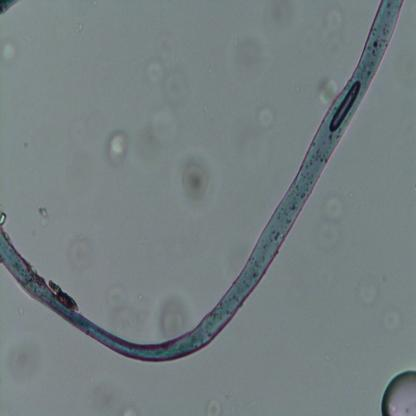Air bubble: (379, 369, 416, 415)
Background material: (128, 102, 180, 158), (312, 184, 347, 250), (177, 160, 211, 200), (105, 122, 129, 168), (356, 272, 385, 309), (68, 240, 94, 280), (159, 299, 187, 333), (326, 5, 346, 41), (32, 201, 53, 232), (144, 59, 166, 86), (316, 78, 336, 102), (385, 309, 404, 332), (0, 36, 16, 62), (258, 105, 274, 126), (0, 214, 13, 226)
Microfibre: (0, 0, 416, 364), (0, 1, 20, 16)
